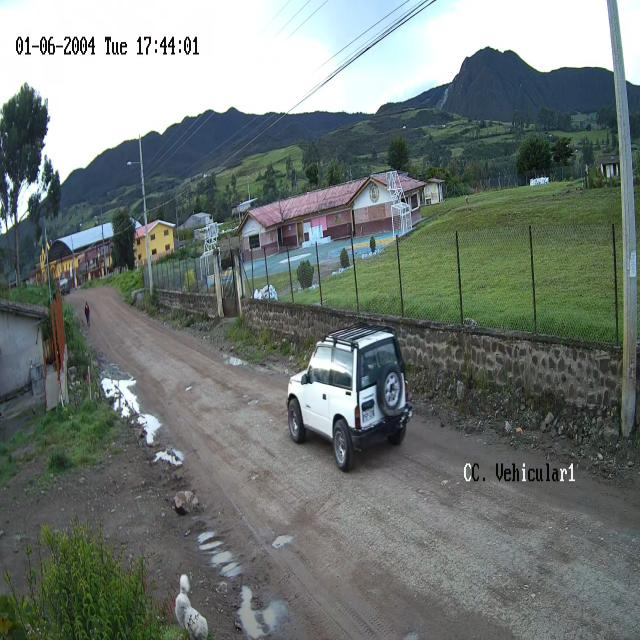SUV: (286, 329, 411, 470)
